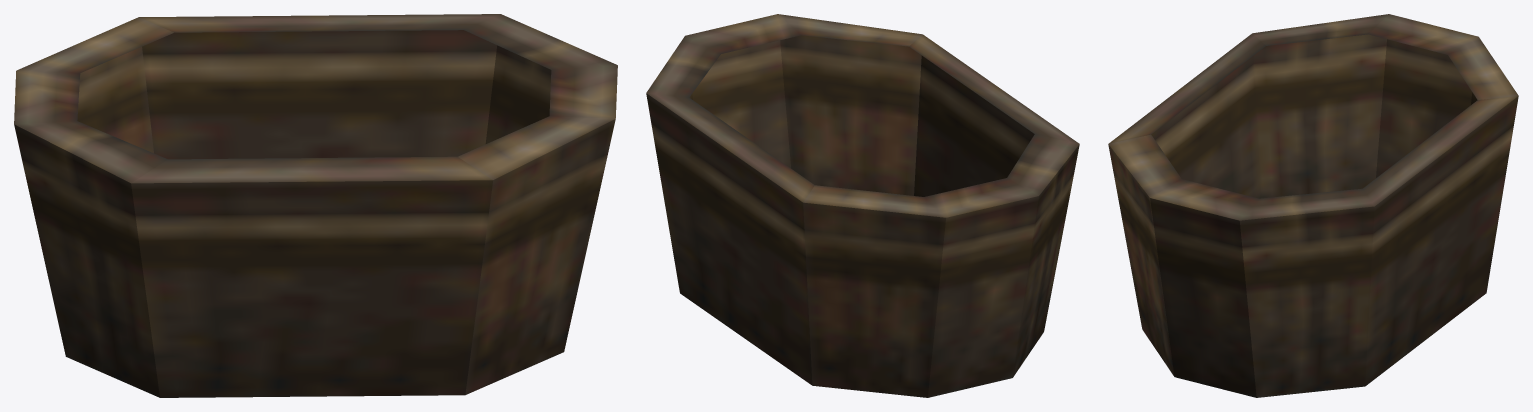
File: xsz_shuitong_1.FBX
3 views of the same model, side by side, from view 1: azimuth 30°, elevation 25°; view 2: azimuth 150°, elevation 25°; view 3: azimuth 270°, elevation 25° (orthographic). The views are drawn at different scales.
Visible parts, largest first — view 1: xsz_shuitong_1; view 2: xsz_shuitong_1; view 3: xsz_shuitong_1.
Part boxes in pixels (x1,y1,x2,y2): xsz_shuitong_1: [14, 14, 617, 397]; xsz_shuitong_1: [646, 14, 1079, 397]; xsz_shuitong_1: [1108, 14, 1518, 397].
Size of the model in its own units: 136 by 59.54 by 114.
